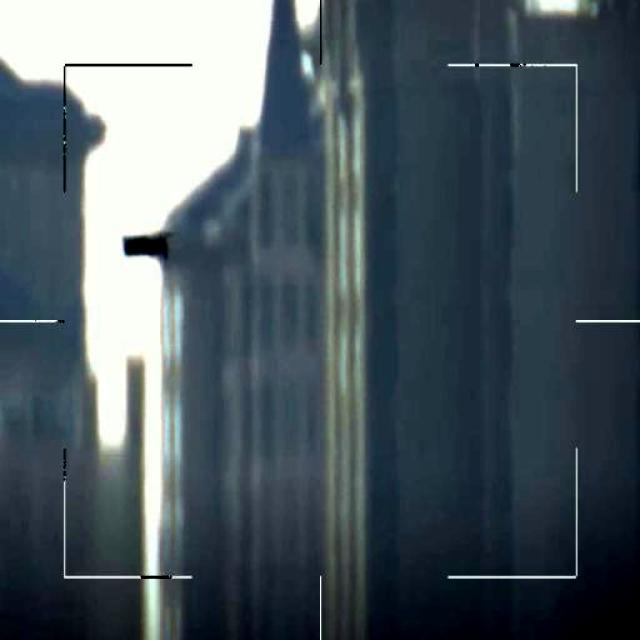bird: (126, 230, 178, 265)
